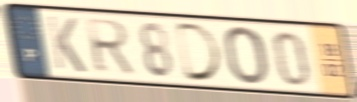0: (270, 28, 315, 88)
8: (138, 20, 175, 79)
D: (173, 20, 226, 83)
K: (43, 13, 88, 76)
O: (222, 24, 270, 87)
R: (82, 17, 138, 76)
